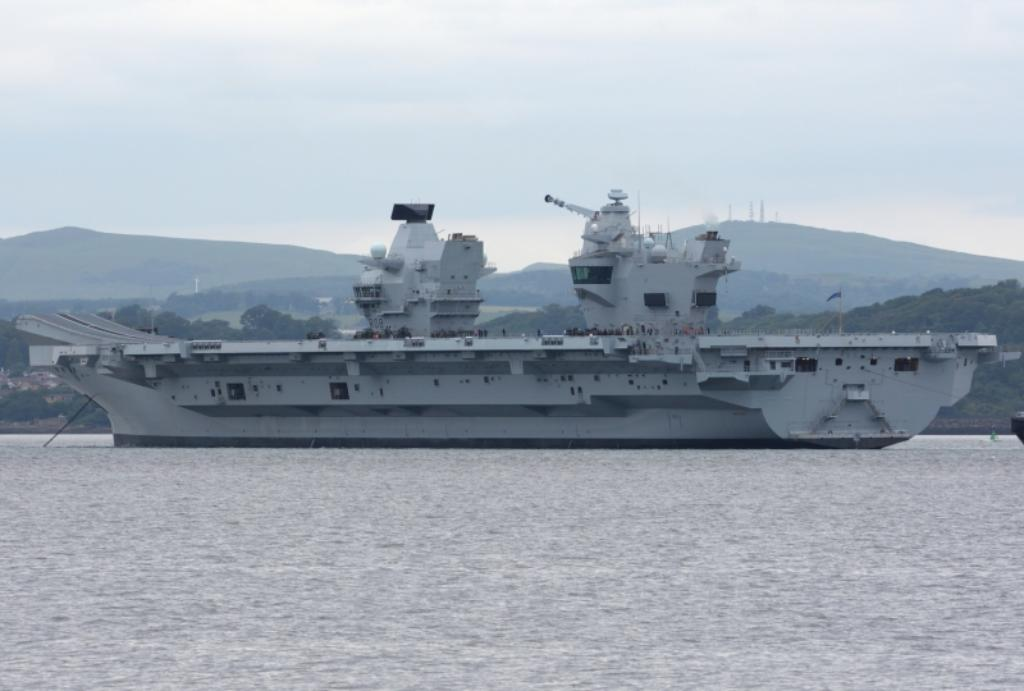Warship: (10, 162, 1006, 454)
